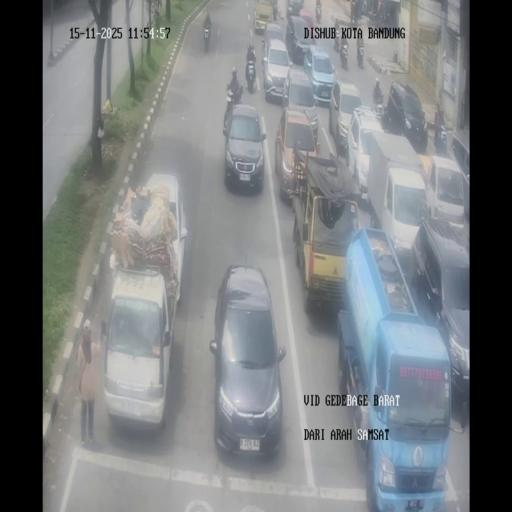car: (210, 263, 286, 459), (139, 173, 189, 307), (274, 104, 318, 203), (423, 154, 466, 234), (384, 80, 428, 149), (330, 78, 362, 152), (302, 44, 335, 105), (262, 37, 292, 102), (286, 14, 314, 64), (253, 0, 275, 34), (287, 0, 304, 17)
motorcycle: (223, 84, 243, 126), (434, 118, 447, 152), (245, 54, 256, 91), (371, 92, 385, 118), (203, 18, 211, 52), (381, 110, 393, 132), (356, 42, 365, 69), (368, 2, 379, 24), (340, 47, 349, 70), (350, 0, 357, 23), (378, 1, 385, 24), (315, 2, 322, 24), (357, 23, 366, 40), (334, 28, 340, 52), (261, 38, 266, 63), (272, 0, 277, 20), (386, 10, 392, 26), (361, 0, 367, 15), (253, 0, 258, 13)
truck: (336, 232, 450, 506), (102, 266, 173, 432), (294, 155, 362, 313), (364, 132, 428, 254)
